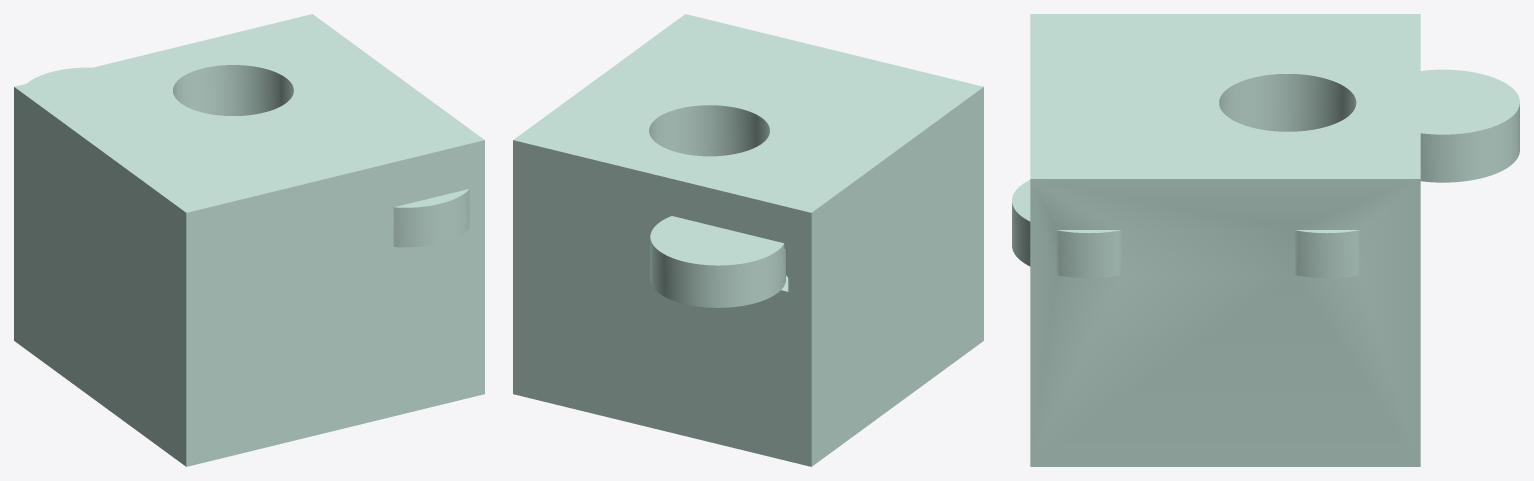
3 renders of one model, left to right at view 1: azimuth 30°, elevation 25°; view 2: azimuth 150°, elevation 25°; view 3: azimuth 270°, elevation 25°, orthographic. The views are drawn at different scales.
Visible parts, largest first — view 1: Renderer Node; view 2: Renderer Node; view 3: Renderer Node.
Part boxes in pixels (x1,y1,x2,y2): Renderer Node: (14,14,484,466); Renderer Node: (513,14,983,466); Renderer Node: (1012,14,1519,466).
Bounding box in the file's own units: 0.9394 × 0.75 × 1.2.
